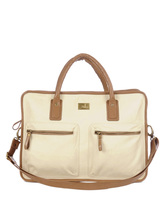bag: (3, 57, 162, 189)
